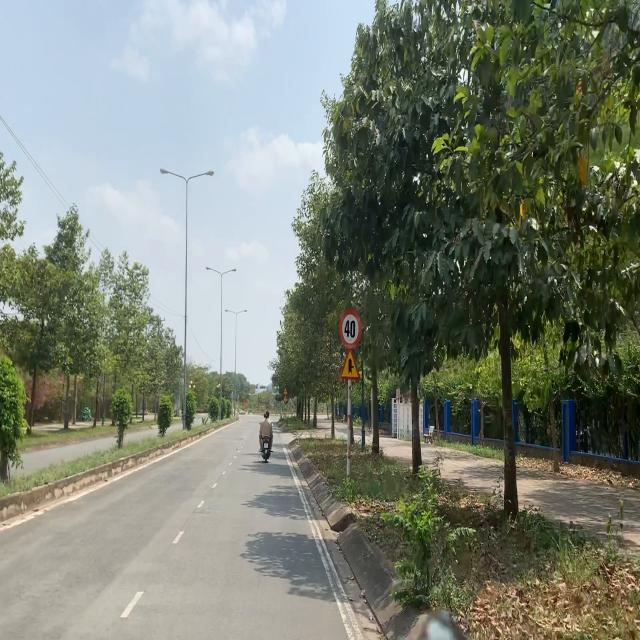Giao voi duong khong uu tien: (340, 348, 361, 381)
Toc do toi da: (340, 307, 362, 349)
